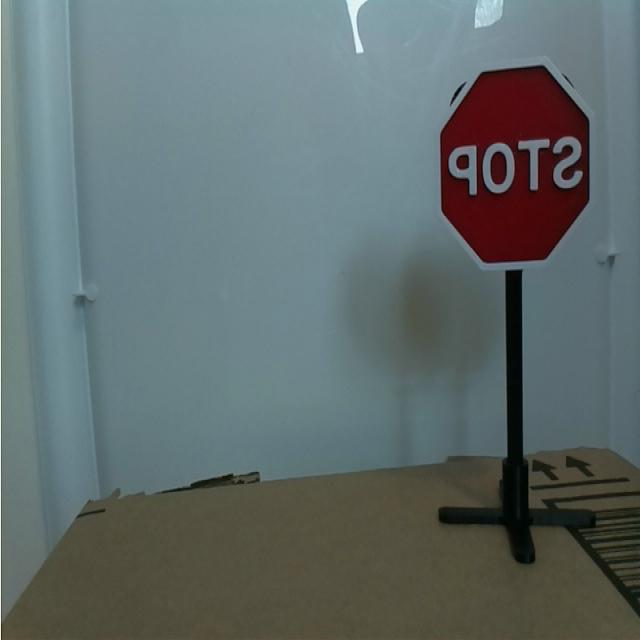sign_stop: (430, 50, 604, 282)
